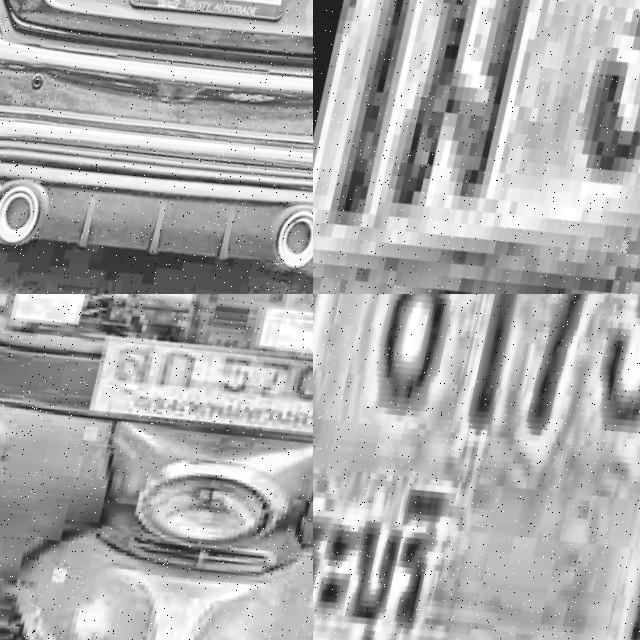license-plate: (313, 294, 640, 640), (313, 0, 640, 294), (92, 317, 313, 477), (123, 0, 309, 48)
